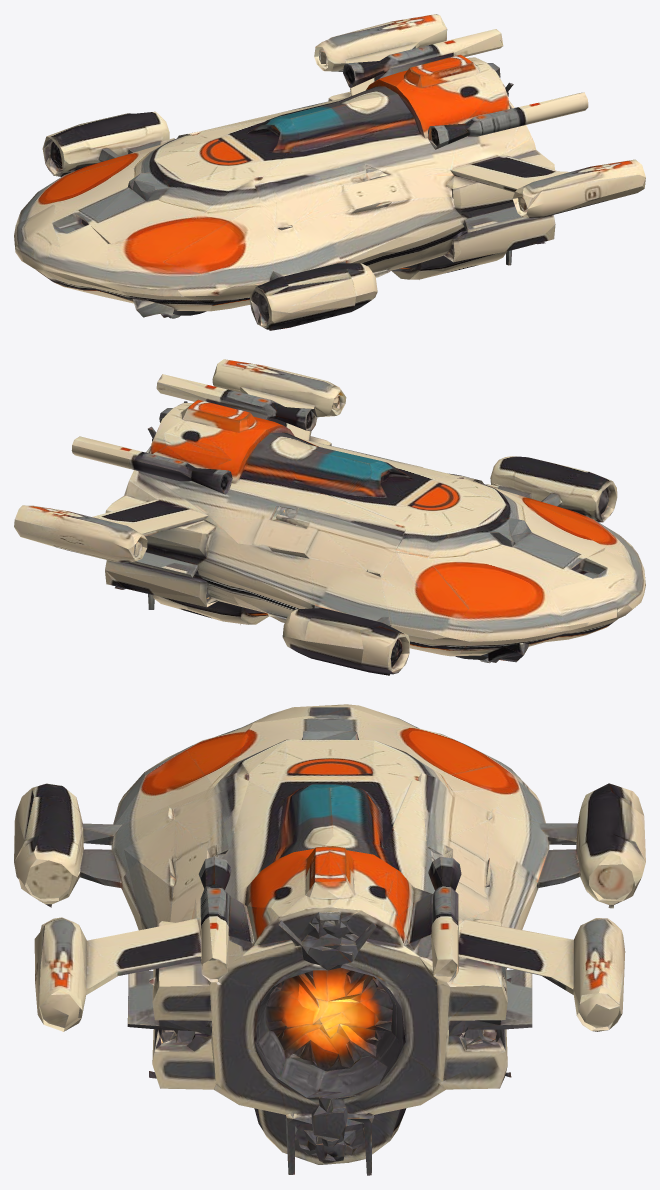
File: nation-e-cruiser.glb
3 renders of one model, top to bottom at view 1: azimuth 30°, elevation 25°; view 2: azimuth 150°, elevation 25°; view 3: azimuth 270°, elevation 25°, orthographic. The views are drawn at different scales.
Bounding box in the file's own units: 1.9 × 0.7424 × 1.48.
Materials: 1 (1 with a texture image).
